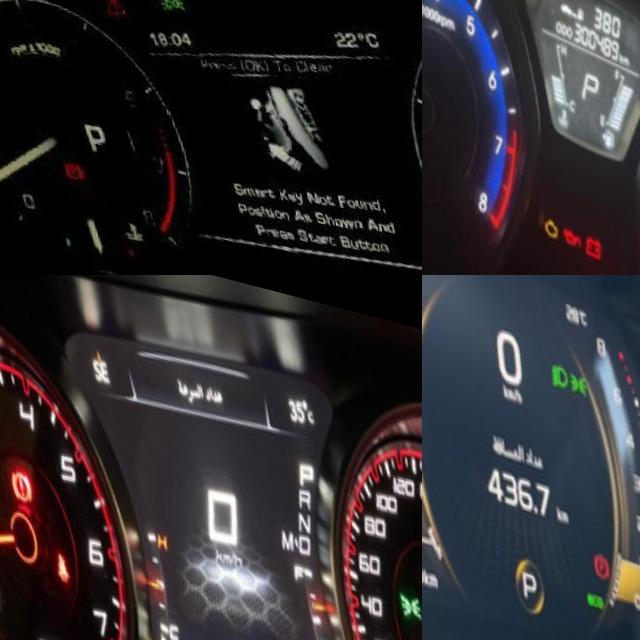Engine cooling system: (101, 204, 134, 241)
Low beam: (537, 336, 565, 377)
Seat Belt: (41, 543, 59, 578)
